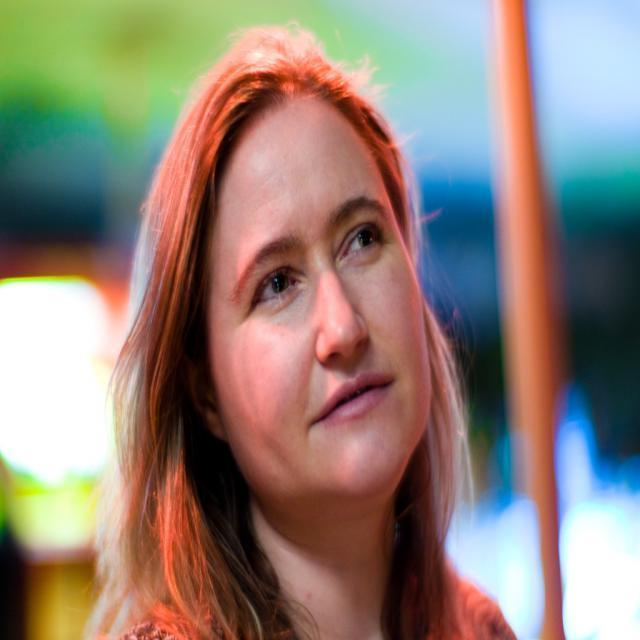closed-mouth: (316, 370, 393, 426)
